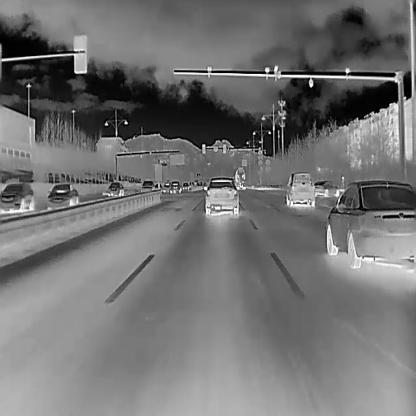car: (326, 179, 415, 267), (203, 175, 239, 217), (0, 182, 34, 213), (285, 171, 315, 206), (46, 182, 78, 209), (312, 178, 340, 196), (233, 166, 246, 190), (106, 180, 123, 196), (140, 179, 154, 192), (170, 180, 181, 193), (163, 180, 171, 193), (154, 181, 163, 192), (182, 180, 189, 190), (188, 179, 194, 188)
